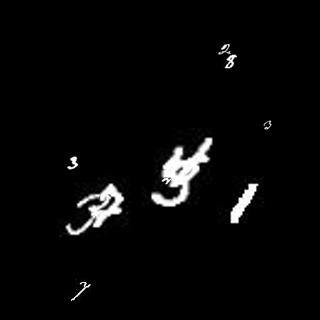eight: (226, 50, 237, 68)
one: (228, 181, 262, 226)
seven: (63, 276, 92, 304)
three: (258, 116, 277, 133), (66, 152, 81, 172)
two: (219, 40, 229, 54)
